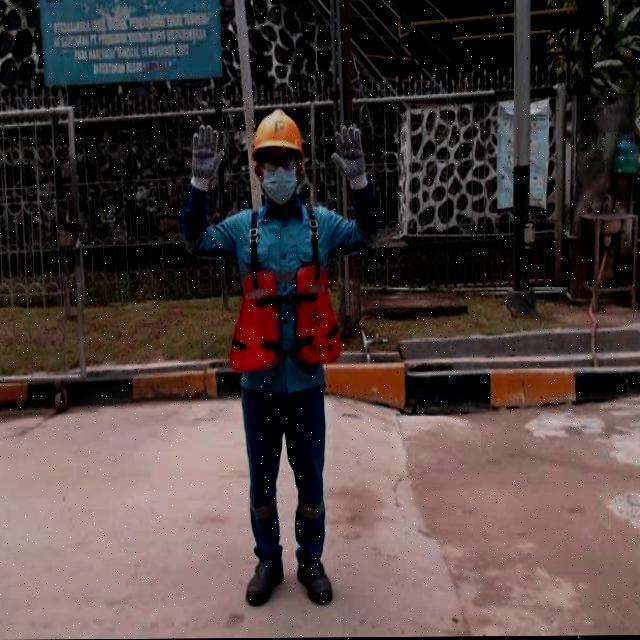goggles_on: (245, 145, 312, 179)
